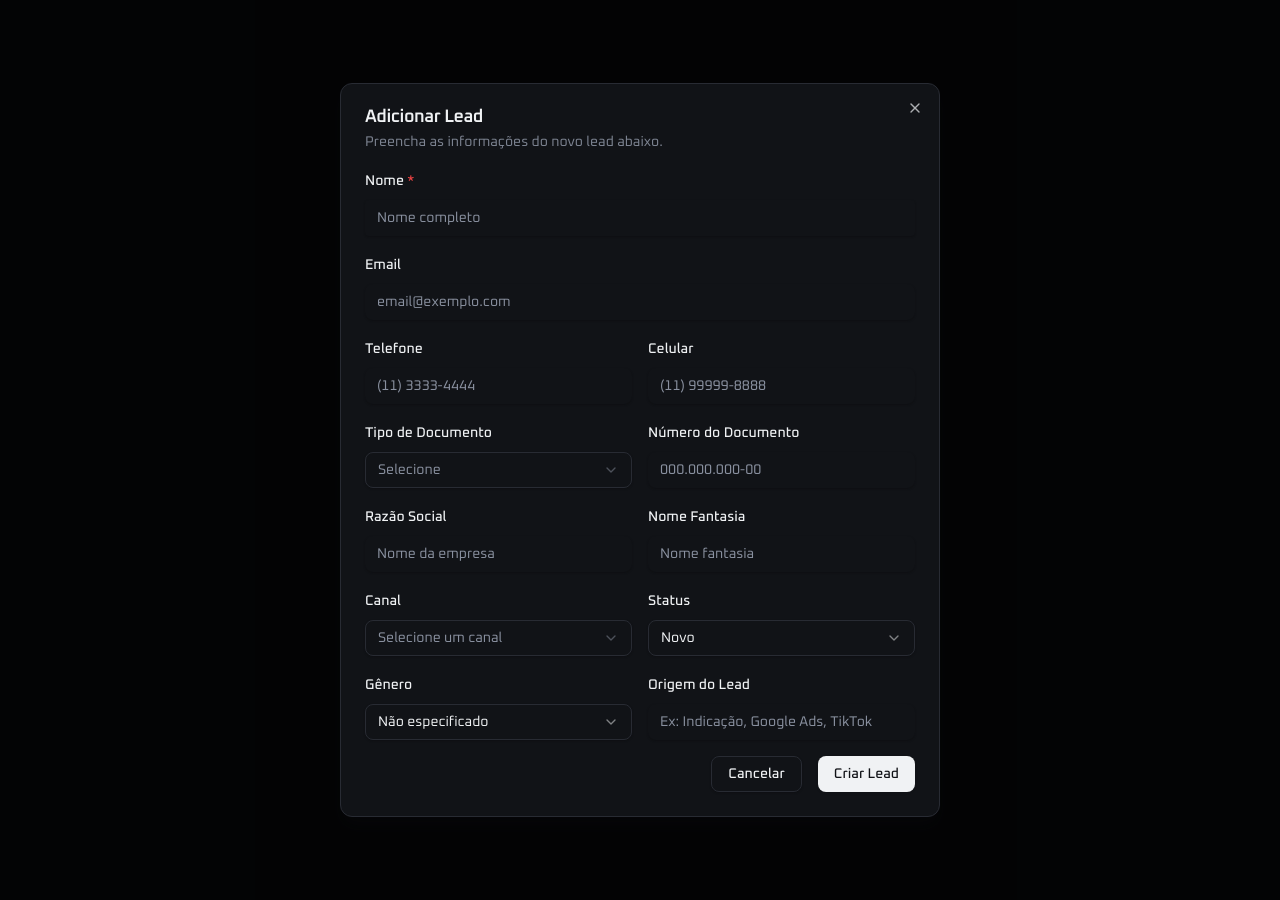
Test: LeadFormDialog › Create Mode › should show validation error for invalid phone
Type "123" into the field labelled "Telefone" at (498, 386), box [365,368,632,404]
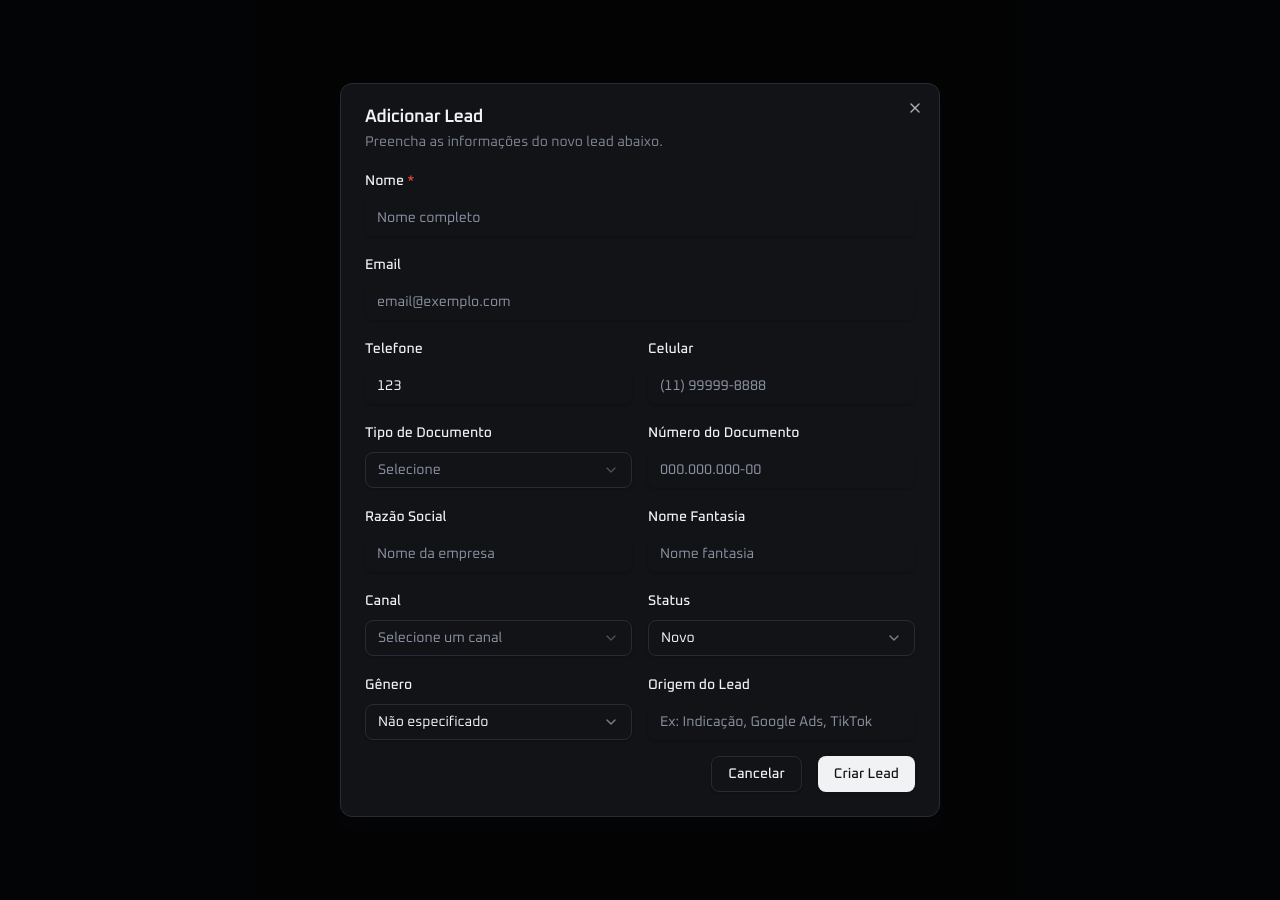
Leave the field labelled "Telefone", box [365,368,632,404]
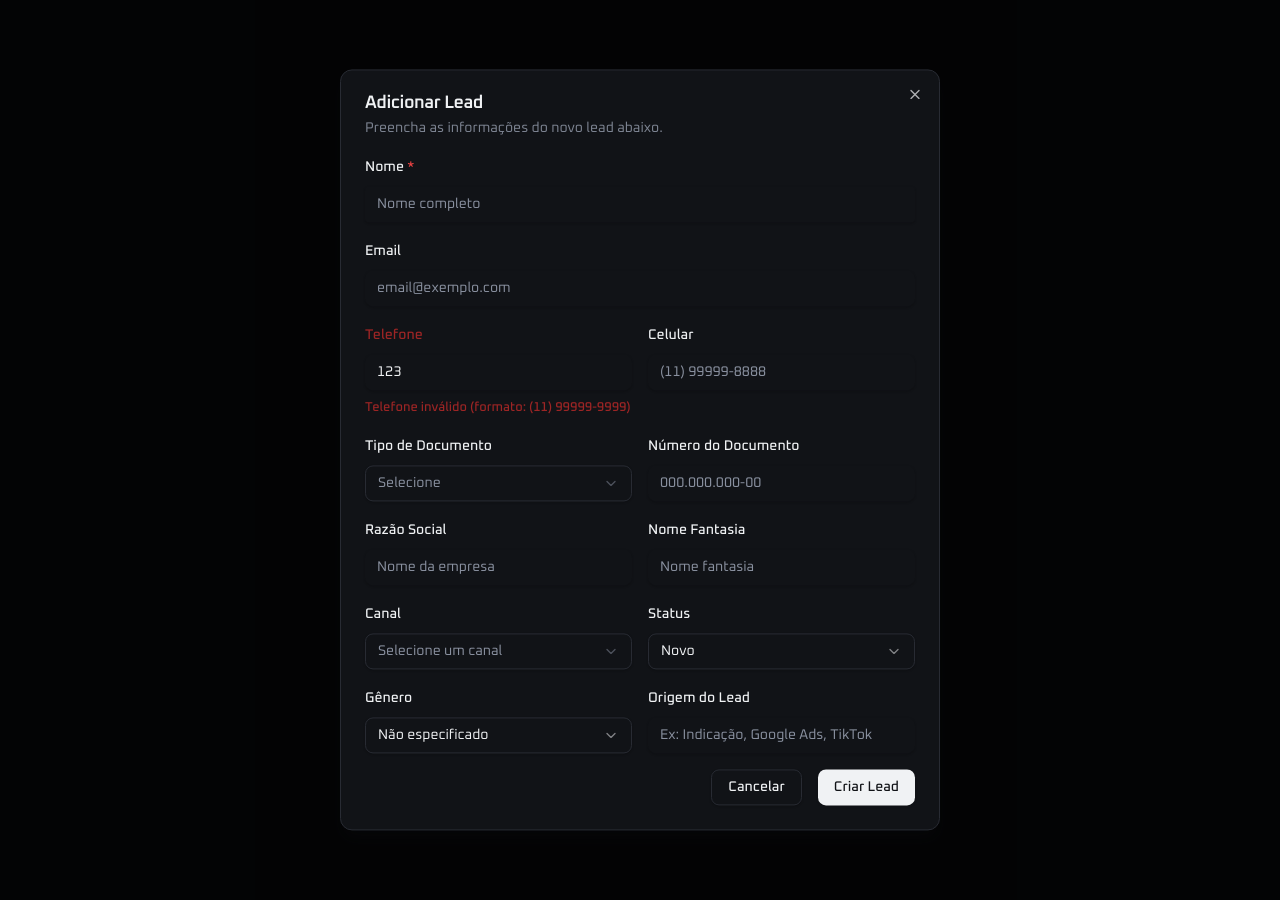
Expected: the text "Telefone inválido (formato: (11) 99999-9999)" is shown, [365,398,632,418]
